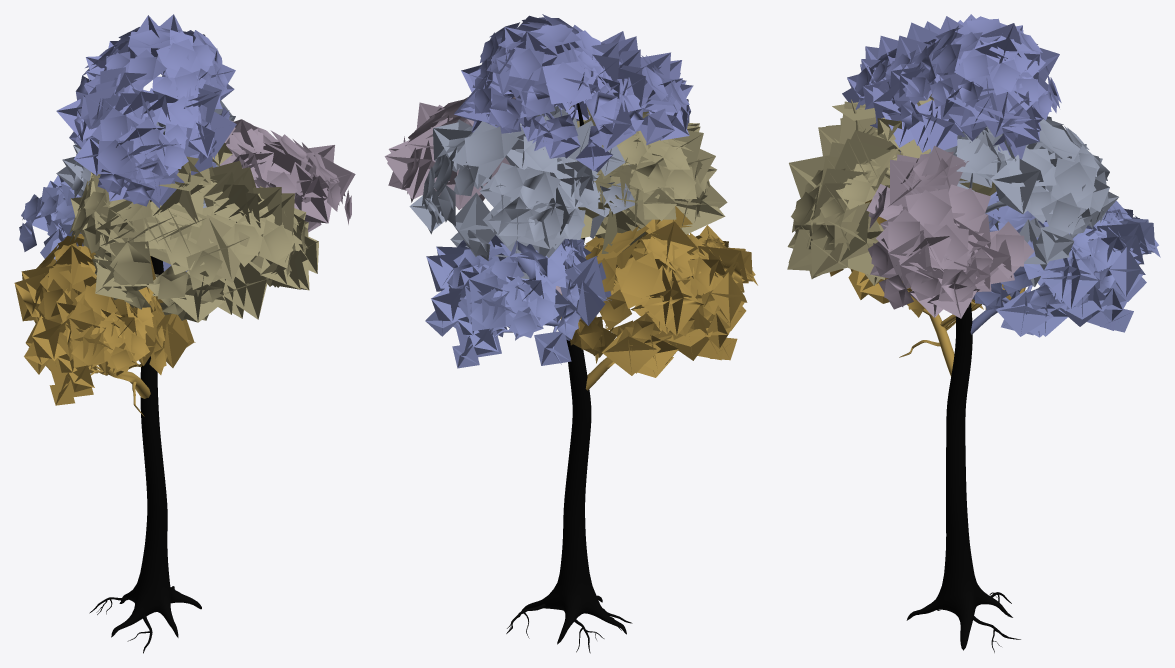
Rendered from SM_Tree_vc_03.fbx.
3 views of the same model, side by side, from view 1: azimuth 30°, elevation 25°; view 2: azimuth 150°, elevation 25°; view 3: azimuth 270°, elevation 25° (orthographic). The views are drawn at different scales.
Visible parts, largest first — view 1: SM_Tree_vc_03.mo; view 2: SM_Tree_vc_03.mo; view 3: SM_Tree_vc_03.mo.
Part boxes in pixels (<box>): SM_Tree_vc_03.mo: <box>14,14,355,653</box>; SM_Tree_vc_03.mo: <box>384,14,757,653</box>; SM_Tree_vc_03.mo: <box>787,14,1160,652</box>.
Size of the model in its own units: 1085 by 1909 by 1043.
